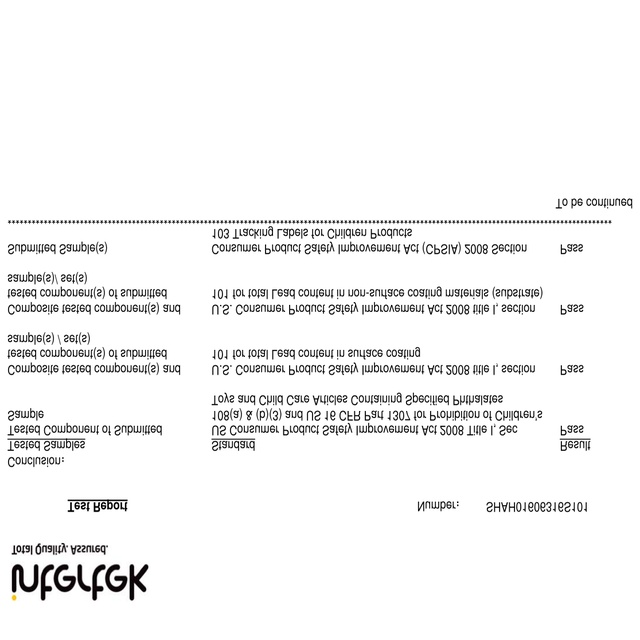intertek: (9, 557, 156, 607)
